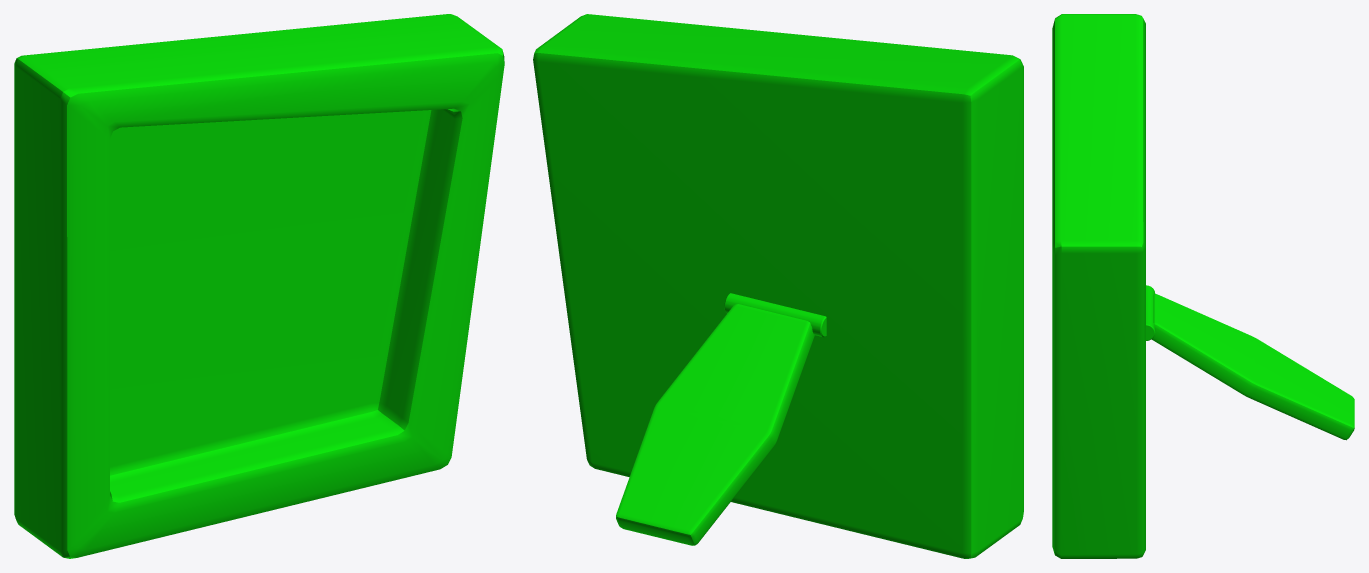
File: Frame_msh.fbx
The picture shows the model from 3 angles, left to right: view 1: azimuth 30°, elevation 25°; view 2: azimuth 150°, elevation 25°; view 3: azimuth 270°, elevation 25°; orthographic projection. The views are drawn at different scales.
Visible parts, largest first — view 1: FrameA_msh; view 2: FrameA_msh; view 3: FrameA_msh.
Boxes of the visible parts, x1,y1,x2,y2 form: FrameA_msh: (14, 14, 504, 558); FrameA_msh: (533, 14, 1023, 558); FrameA_msh: (1052, 14, 1354, 558).
Bounding box in the file's own units: 22.85 × 23.14 × 16.14.
